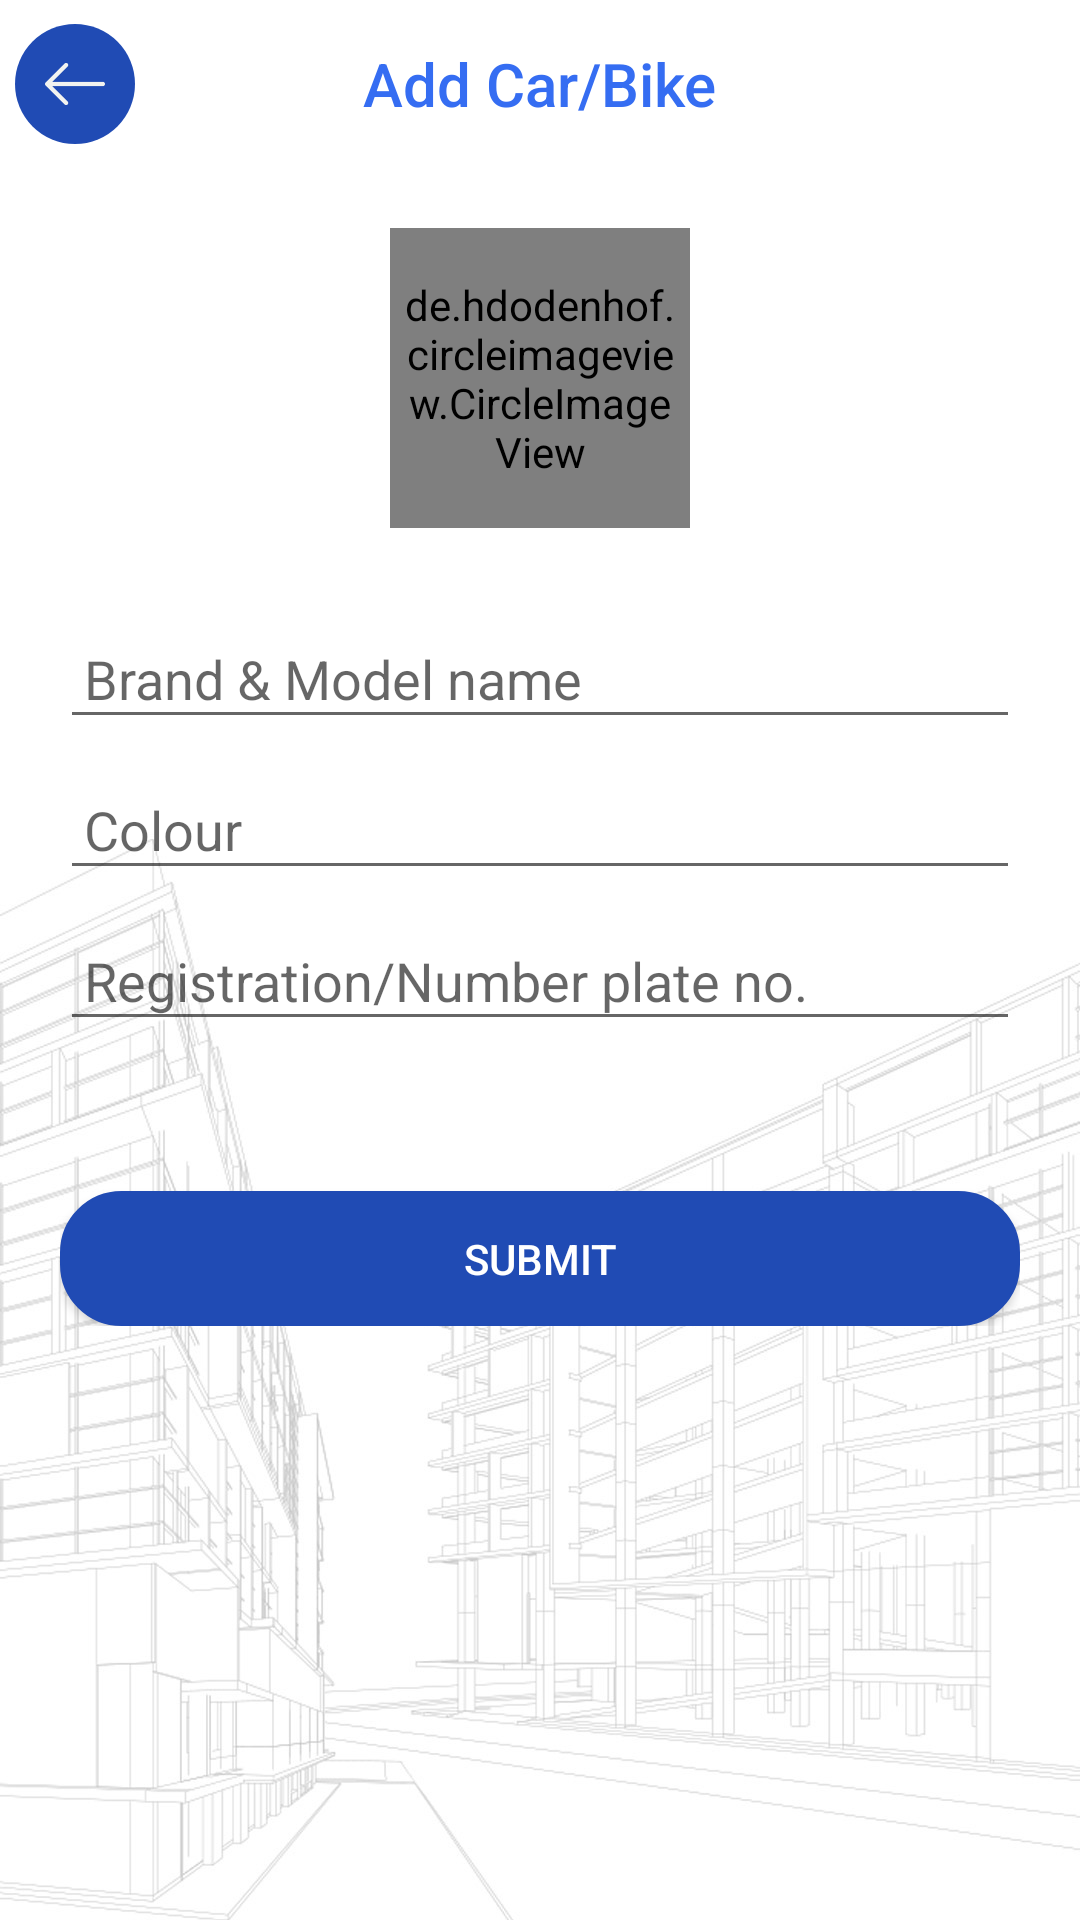

Point at icon controls on the screen. Image size 1080*1920, points as point (x, y).
backarrow: point (75, 84)
